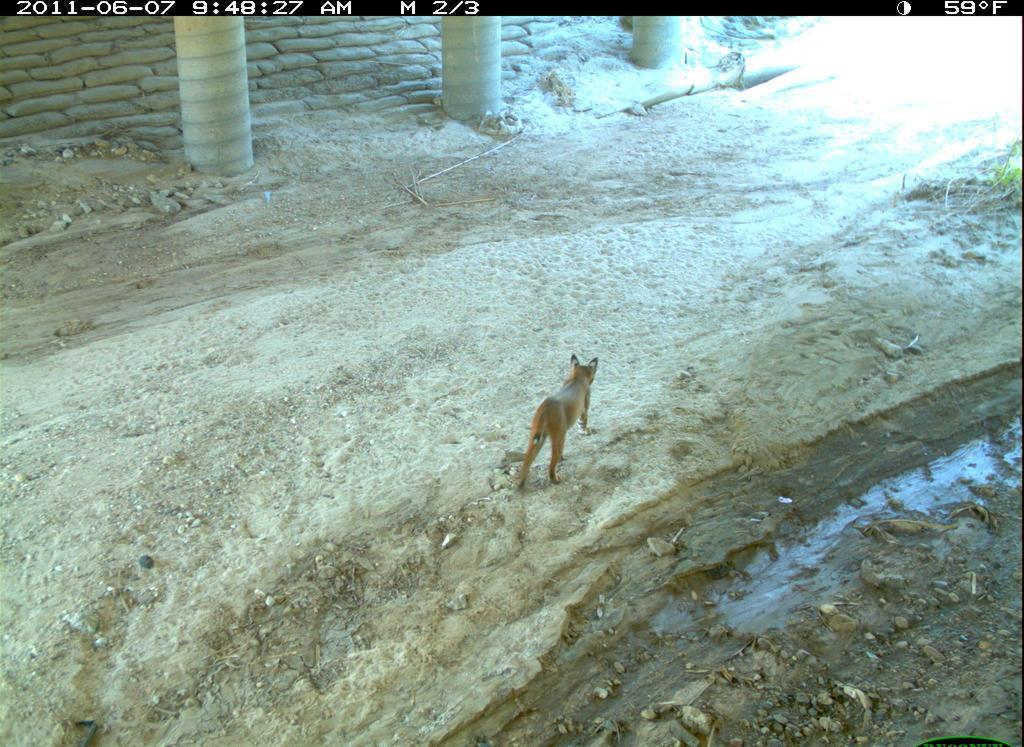bobcat: (511, 347, 623, 506)
